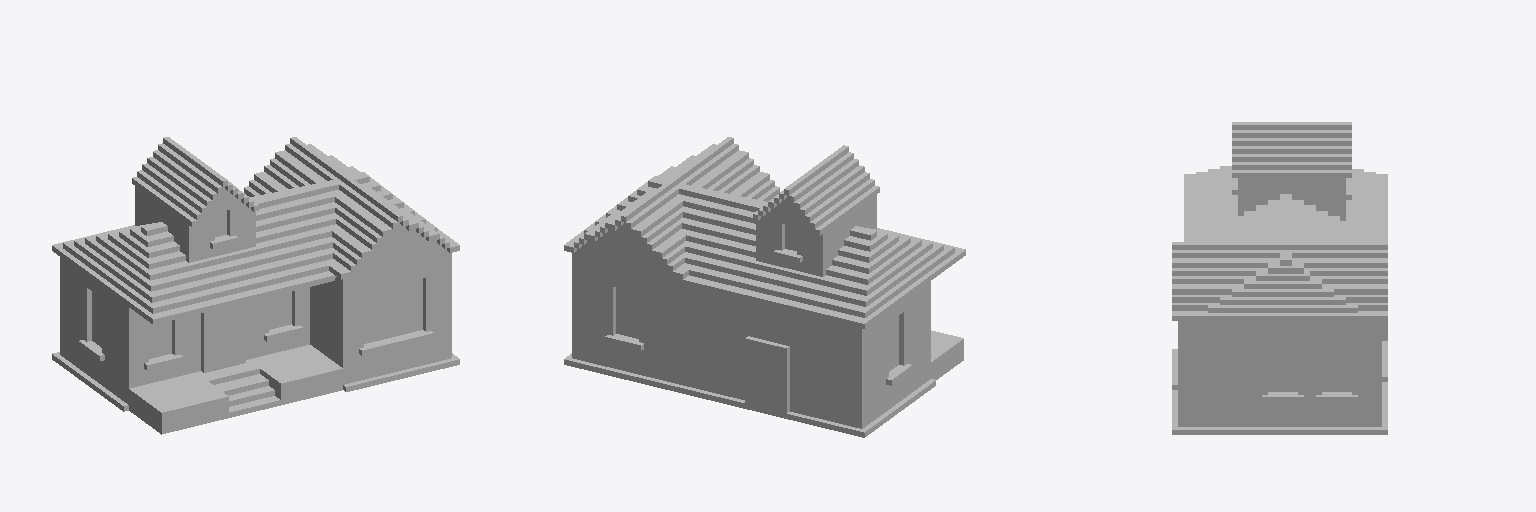
Rendered from whiteHouse.obj.
The picture shows the model from 3 angles: view 1: azimuth 30°, elevation 25°; view 2: azimuth 150°, elevation 25°; view 3: azimuth 270°, elevation 25°; orthographic projection.
Visible parts, largest first — view 1: object 1; view 2: object 1; view 3: object 1.
Part boxes in pixels (bbox=[...]): object 1: bbox=[52, 137, 459, 434]; object 1: bbox=[564, 137, 965, 437]; object 1: bbox=[1172, 122, 1387, 434].
Size of the model in its own units: 23.2 by 15.6 by 14.4.